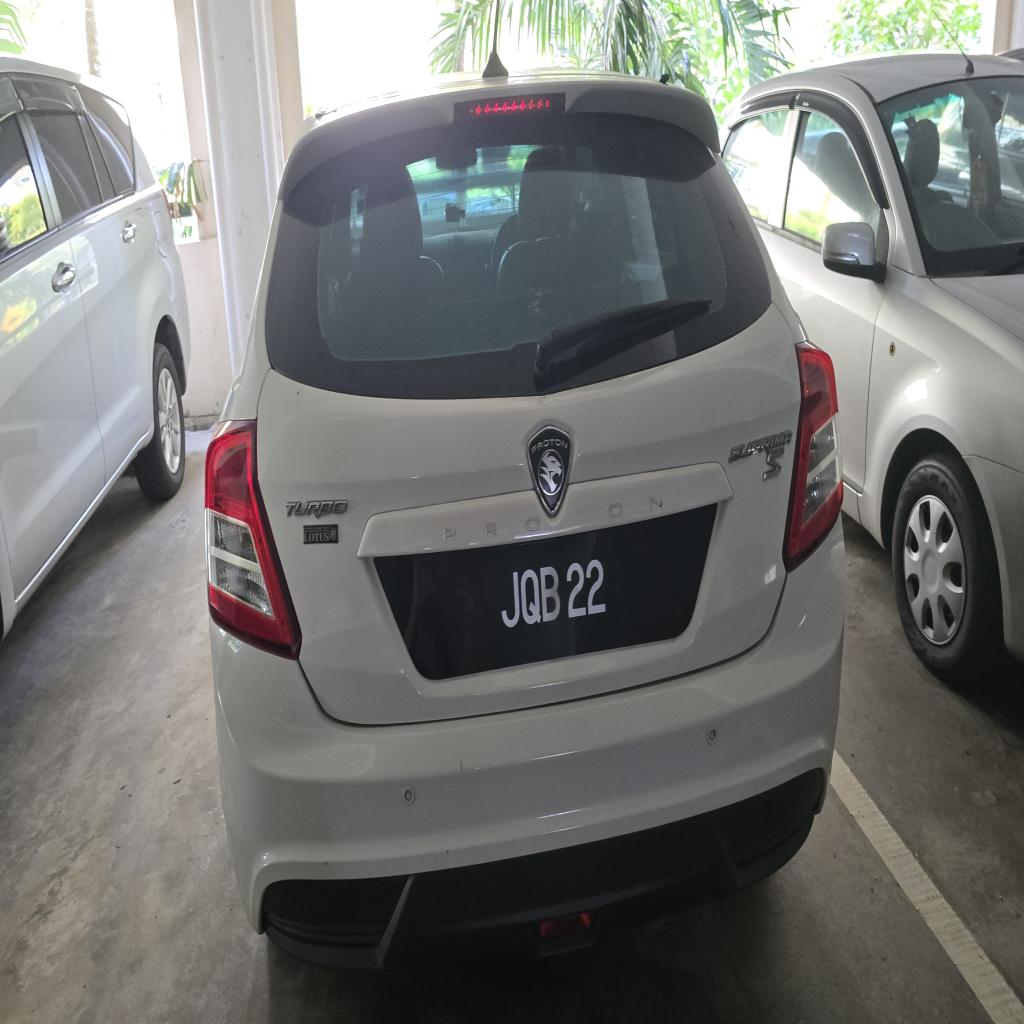car: (206, 73, 844, 965)
car plate: (375, 506, 715, 679)
